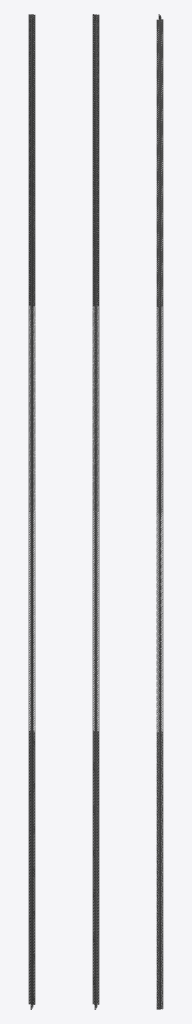
File: SWORDLIGHT20_INST_CHAINC1M_LOD1_02.obj
The picture shows the model from 3 angles, left to right: view 1: azimuth 30°, elevation 25°; view 2: azimuth 210°, elevation 25°; view 3: azimuth 330°, elevation 25°; orthographic projection.
Parts seen in each view (by area): view 1: hainC1m_Lod1_02; view 2: hainC1m_Lod1_02; view 3: hainC1m_Lod1_02.
Part boxes in pixels (x1,y1,x2,y2): hainC1m_Lod1_02: (28,14,35,1009); hainC1m_Lod1_02: (92,14,99,1009); hainC1m_Lod1_02: (156,14,163,1009).
Size of the model in its own units: 8.43 by 1714 by 8.43.
